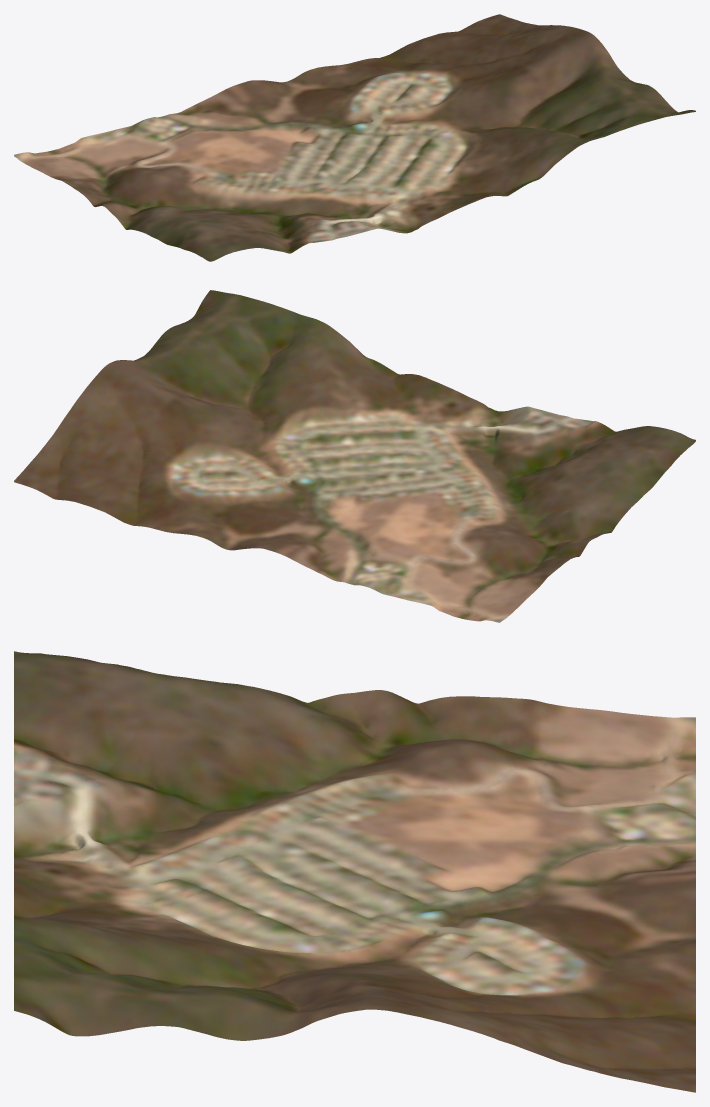
The model's file is terrain_r7_c5.glb.
The picture shows the model from 3 angles, top to bottom: view 1: azimuth 30°, elevation 25°; view 2: azimuth 150°, elevation 25°; view 3: azimuth 270°, elevation 25°; orthographic projection. The views are drawn at different scales.
Parts seen in each view (by area): view 1: terrain_r7_c5_lod0; view 2: terrain_r7_c5_lod0; view 3: terrain_r7_c5_lod0.
Boxes of the visible parts, <box> form: terrain_r7_c5_lod0: <box>14,14,695,261</box>; terrain_r7_c5_lod0: <box>14,290,695,622</box>; terrain_r7_c5_lod0: <box>14,651,695,1092</box>.
Size of the model in its own units: 1125 by 173 by 787.
Materials: 1 (1 with a texture image).
